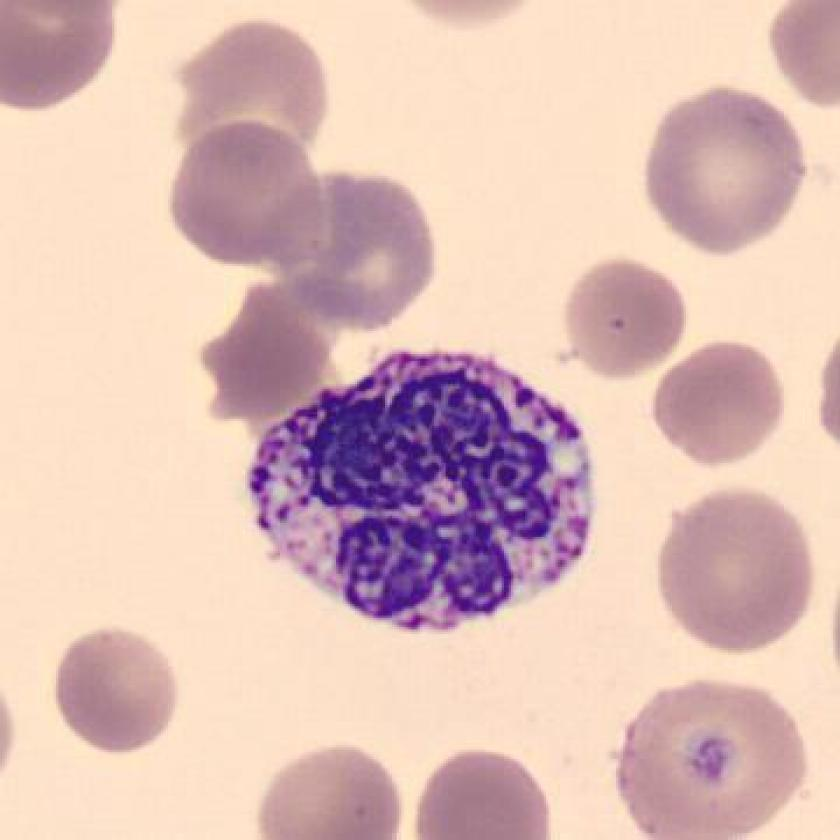basophil: (230, 344, 612, 640)
